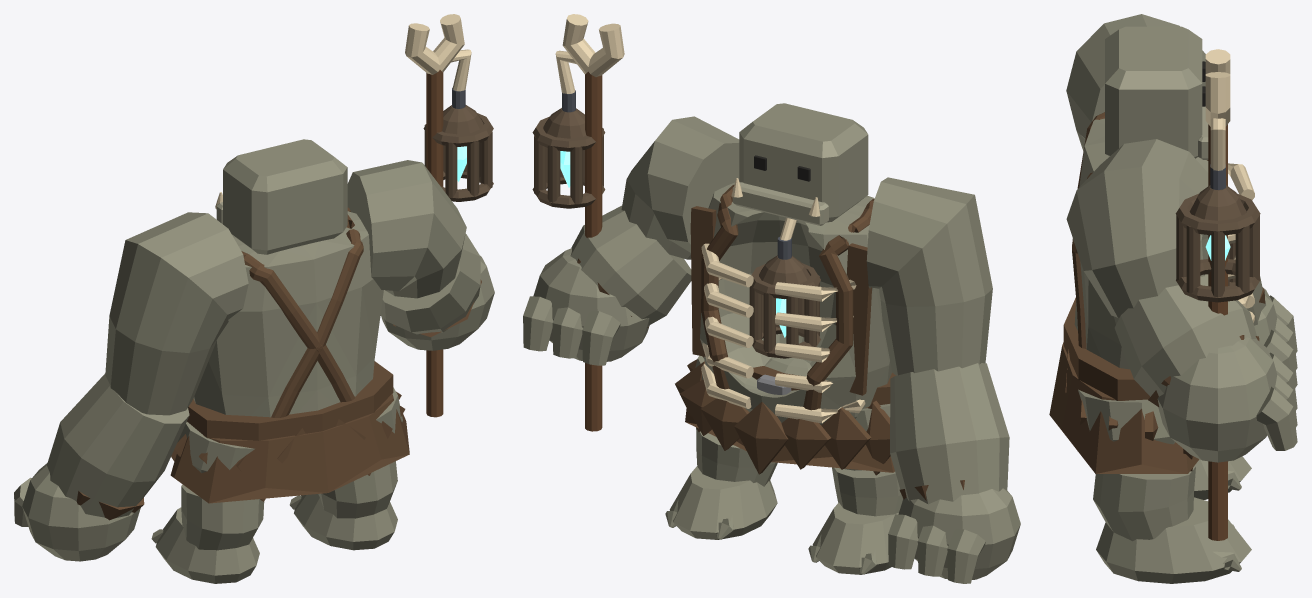
Rendered from host_32.glb.
3 renders of one model, left to right at view 1: azimuth 30°, elevation 25°; view 2: azimuth 150°, elevation 25°; view 3: azimuth 270°, elevation 25°, orthographic. The views are drawn at different scales.
Parts seen in each view (by area): view 1: V6 source anatomical upper arm L, V6 source anatomical thorax, Leather ragged skirt, V6 source anatomical upper arm R, V6 source anatomical forearm L, Observed face, V6 source anatomical palm L, Continuous leather waist belt, V6 source anatomical forearm R, V6 source anatomical shin L, V6 source anatomical bare foot L, V6 source anatomical bare foot R (+11 smaller); view 2: V6 source anatomical upper arm L, V6 source anatomical forearm L, V6 source anatomical thorax, Observed face, V6 source anatomical upper arm R, V6 source anatomical forearm R, V6 source anatomical palm L, V6 source anatomical bare foot R, V6 source anatomical palm R, V6 source anatomical bare foot L, V6 soul drinker actual forked bone lantern staff whole conti, V6 source contacting shoulder and back leather harness (+39 smaller); view 3: V6 source anatomical upper arm R, Observed face, V6 source anatomical palm R, V6 source anatomical forearm R, V6 source anatomical bare foot R, Leather ragged skirt, V6 source anatomical shin R, V6 soul drinker actual staff hanging lantern cage actual con (×5), V6 source anatomical upper arm L, V6 source anatomical thorax, V6 soul drinker actual staff hanging lantern cage contacting (×3), Continuous leather waist belt (+18 smaller).
Boxes of the visible parts, <box> form: V6 source anatomical upper arm L: <box>105,212,248,415</box>; V6 source anatomical thorax: <box>193,211,383,417</box>; Leather ragged skirt: <box>170,393,409,503</box>; V6 source anatomical upper arm R: <box>347,160,466,298</box>; V6 source anatomical forearm L: <box>47,373,189,517</box>; Observed face: <box>223,139,347,254</box>; V6 source anatomical palm L: <box>22,463,140,561</box>; Continuous leather waist belt: <box>187,361,393,440</box>; V6 source anatomical forearm R: <box>381,234,480,334</box>; V6 source anatomical shin L: <box>181,484,264,550</box>; V6 source anatomical bare foot L: <box>155,507,259,583</box>; V6 source anatomical bare foot R: <box>294,494,397,550</box>; V6 source anatomical upper arm L: <box>866,177,992,375</box>; V6 source anatomical forearm L: <box>890,363,1009,504</box>; V6 source anatomical thorax: <box>700,182,892,425</box>; Observed face: <box>739,103,868,222</box>; V6 source anatomical upper arm R: <box>621,116,739,259</box>; V6 source anatomical forearm R: <box>570,205,691,325</box>; V6 source anatomical palm L: <box>898,488,1020,579</box>; V6 source anatomical bare foot R: <box>669,466,777,539</box>; V6 source anatomical palm R: <box>533,248,649,361</box>; V6 source anatomical bare foot L: <box>812,502,898,574</box>; V6 soul drinker actual forked bone lantern staff whole conti: <box>585,71,602,431</box>; V6 source contacting shoulder and back leather harness: <box>803,199,874,410</box>; V6 source anatomical upper arm R: <box>1066,139,1208,317</box>; Observed face: <box>1105,26,1202,158</box>; V6 source anatomical palm R: <box>1157,337,1277,462</box>; V6 source anatomical forearm R: <box>1114,274,1257,396</box>; V6 source anatomical bare foot R: <box>1096,497,1251,583</box>; Leather ragged skirt: <box>1049,342,1199,473</box>; V6 source anatomical shin R: <box>1093,465,1195,541</box>; V6 soul drinker actual staff hanging lantern cage actual con (×5): <box>1176,215,1259,297</box>; V6 source anatomical upper arm L: <box>1066,14,1205,151</box>; V6 source anatomical thorax: <box>1074,118,1246,369</box>; V6 soul drinker actual staff hanging lantern cage contacting (×3): <box>1175,164,1260,302</box>; Continuous leather waist belt: <box>1063,297,1149,400</box>.
Bounding box in the file's own units: 1.93 × 1.87 × 0.7478.
